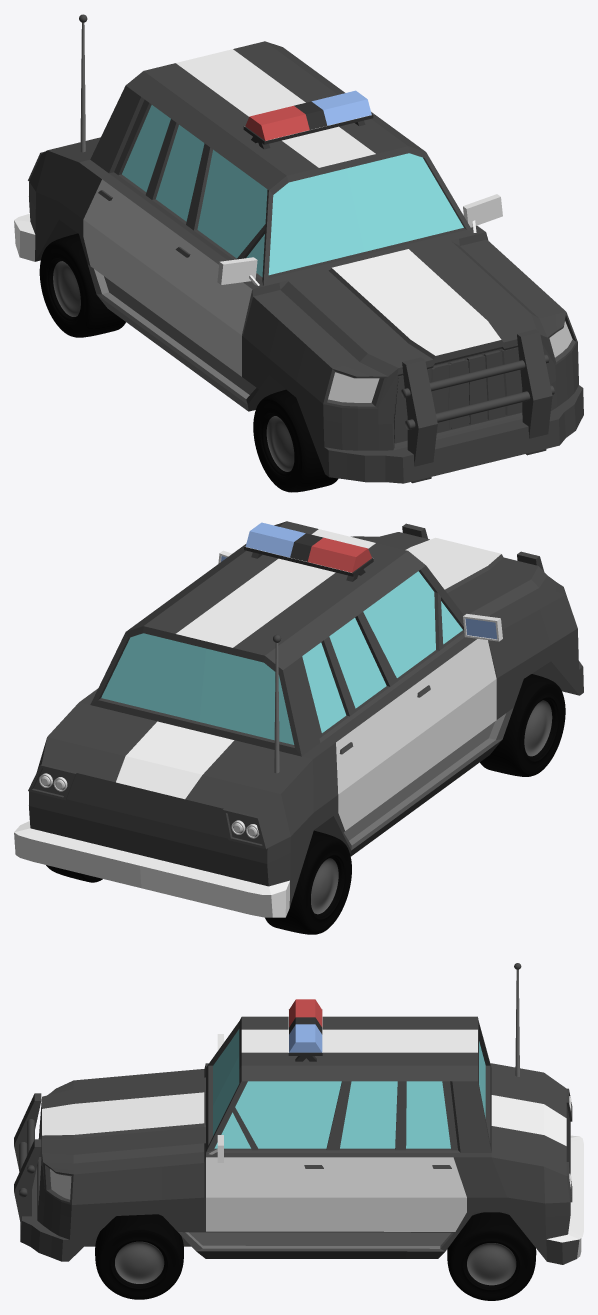
Rendered from police car 2.fbx.
3 views of the same model, one above another, from view 1: azimuth 30°, elevation 25°; view 2: azimuth 150°, elevation 25°; view 3: azimuth 270°, elevation 25° (orthographic). The views are drawn at different scales.
Parts seen in each view (by area): view 1: Body, FR, RR; view 2: Body, FR, RR; view 3: Body, FL, RL.
Boxes of the visible parts, x1,y1,x2,y2 form: Body: [14, 14, 583, 483]; FR: [253, 389, 338, 492]; RR: [39, 233, 125, 337]; Body: [14, 521, 583, 917]; FR: [480, 674, 565, 776]; RR: [265, 830, 351, 934]; Body: [14, 963, 583, 1264]; FL: [95, 1214, 183, 1299]; RL: [447, 1212, 536, 1300].
Bounding box in the file's own units: 142 × 145 × 301.
